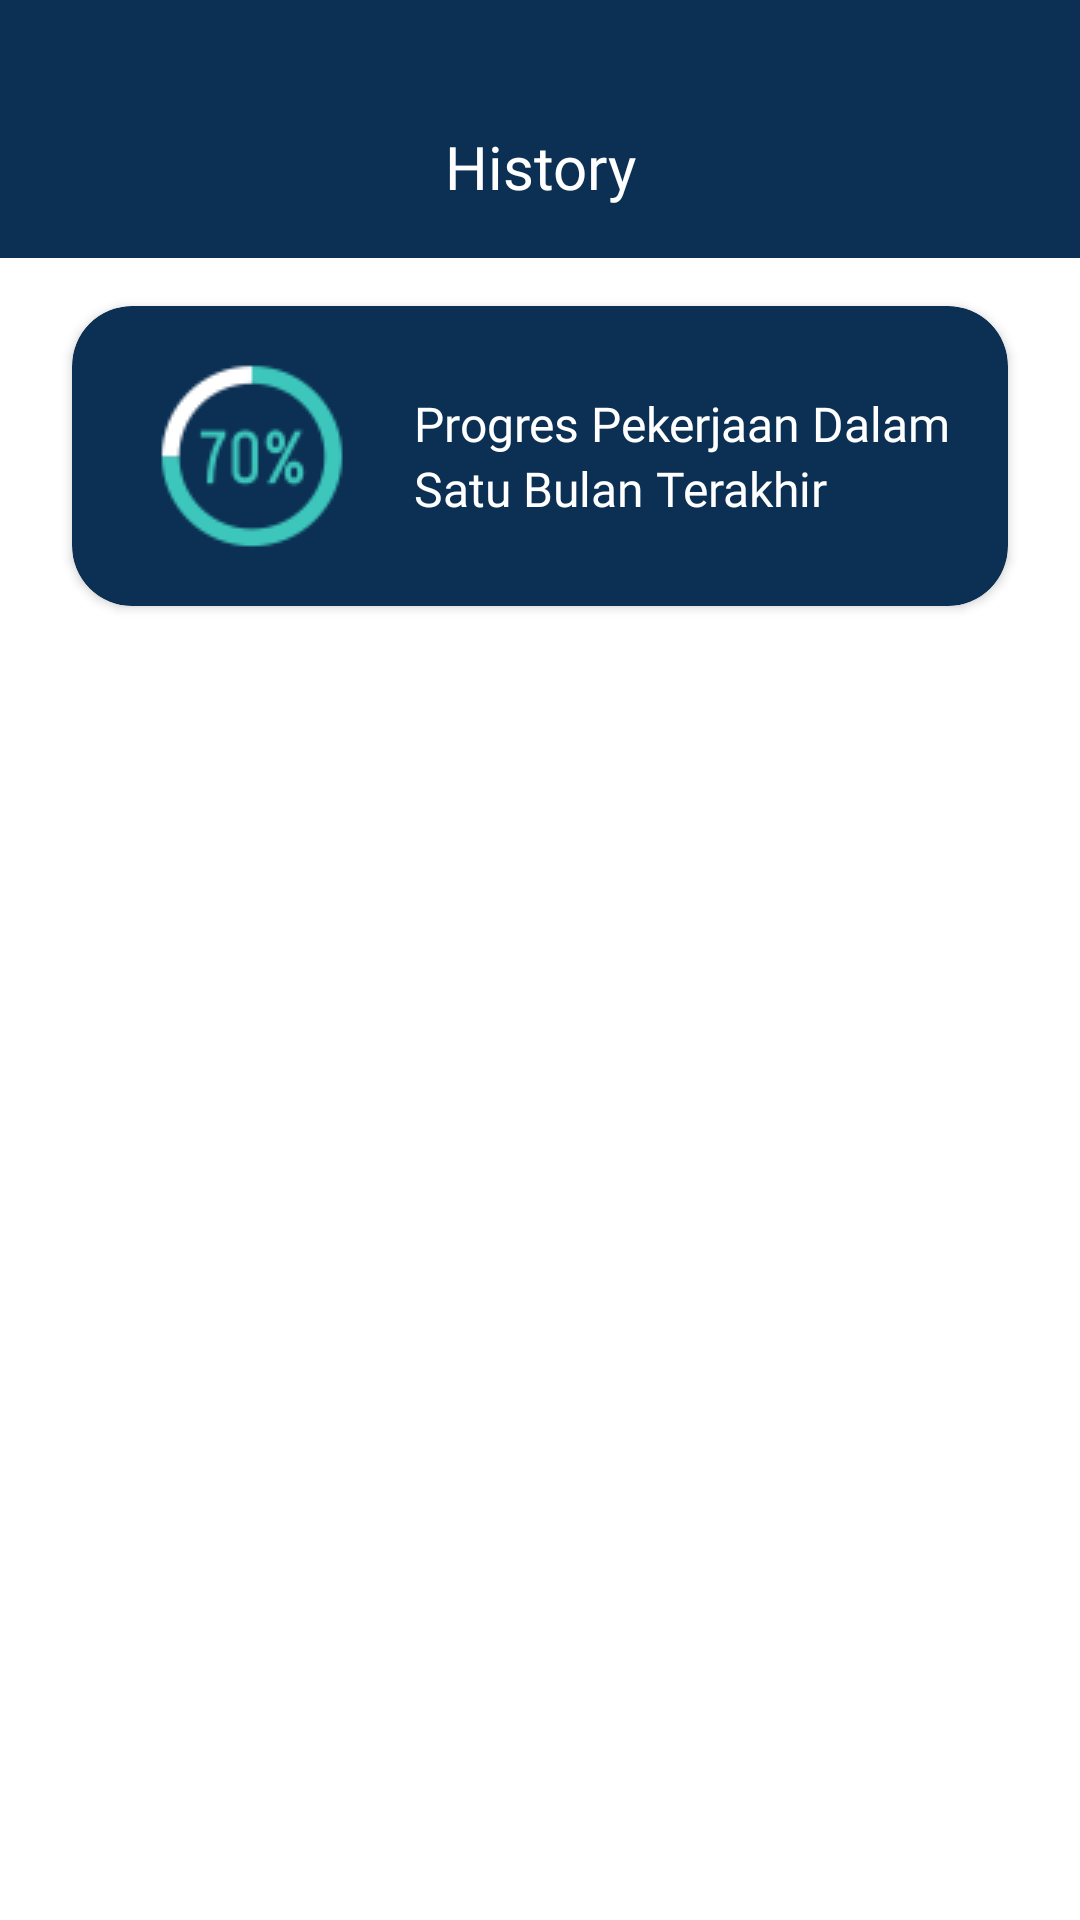

Screen size 1080px×1920px. Icon name, then its box in pixels as (x1, y1, x2, y2):
percentage: (161, 365, 343, 547)
